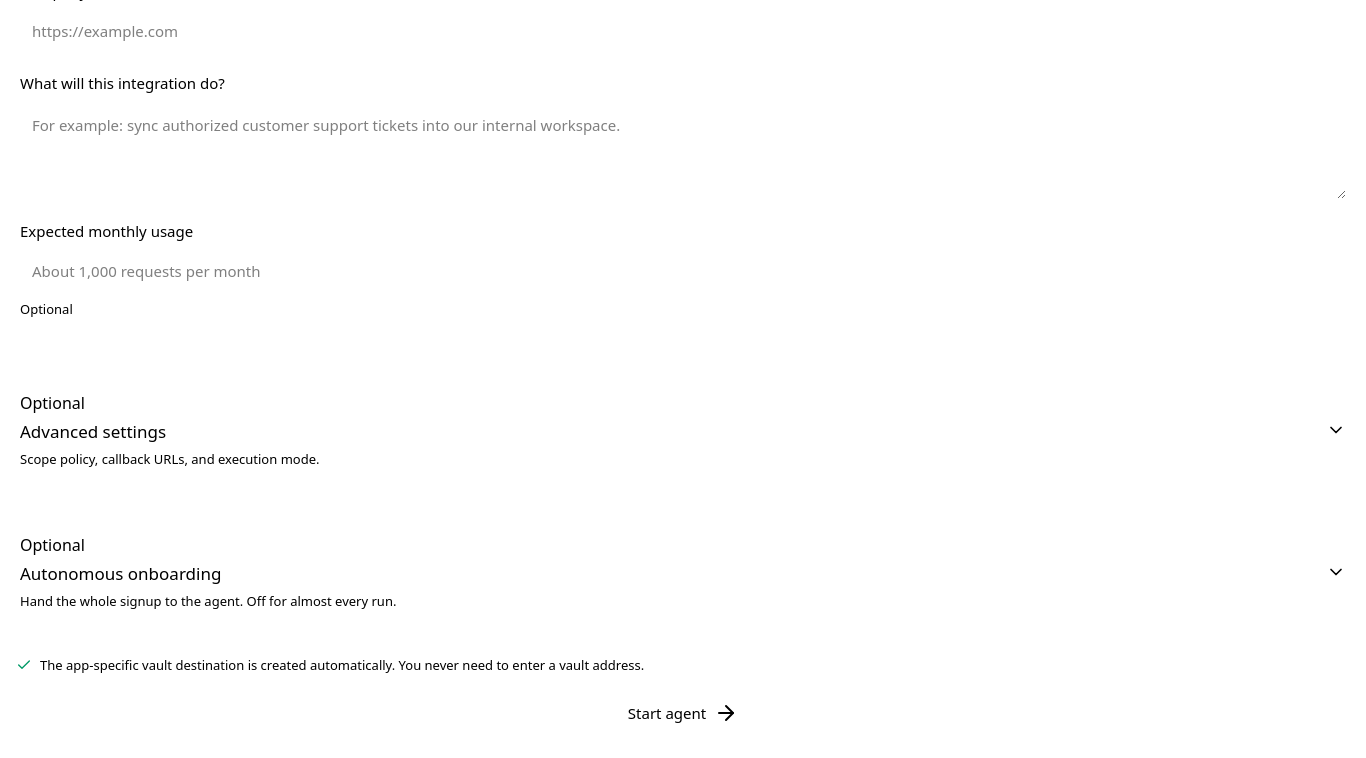
Scenario: NewRunForm › shows the required company and browser fields with truthful execution controls
(page scrolled)
Expected: the field labelled "Company website" is shown, [20,11,1346,51]
Expected: the text box labelled "What will this integration do?" is shown, [20,103,1346,199]
Click the heading "Advanced settings".
click(93, 432)  # box [20,420,166,443]
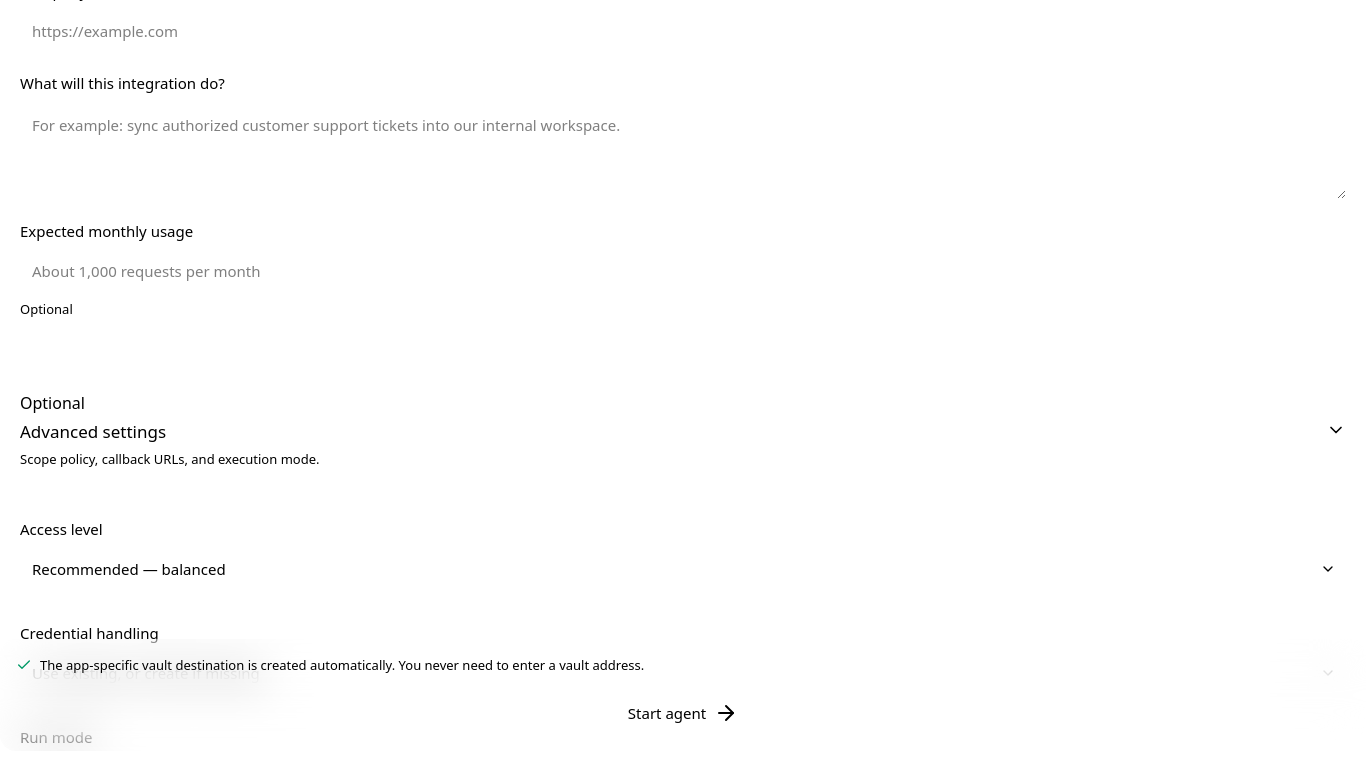
Expected: the text "vault destination is created automatically" is shown, [40,656,644,674]
Now the dropdown named "Credential handling" reads "Use existing, or create if missing", box [20,653,1346,693]
